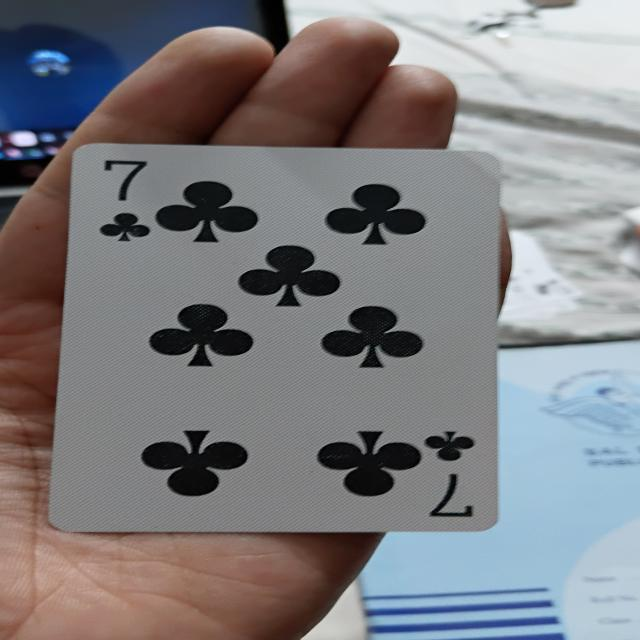7C: (58, 143, 504, 532)
